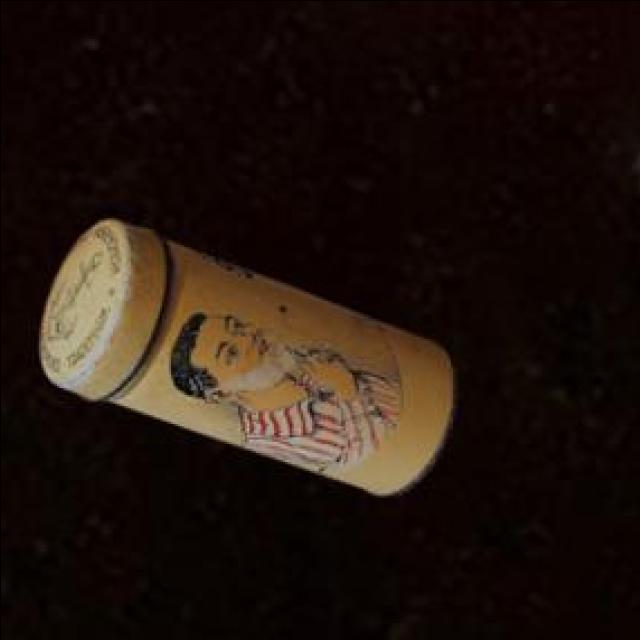logam: (44, 223, 458, 498)
